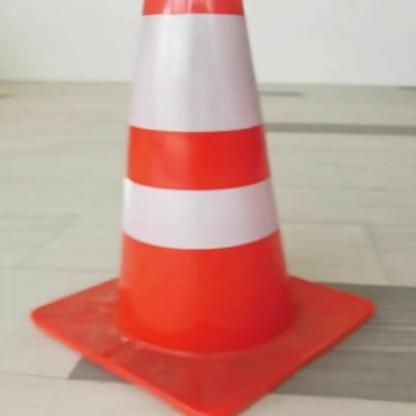cone: (25, 2, 388, 416)
